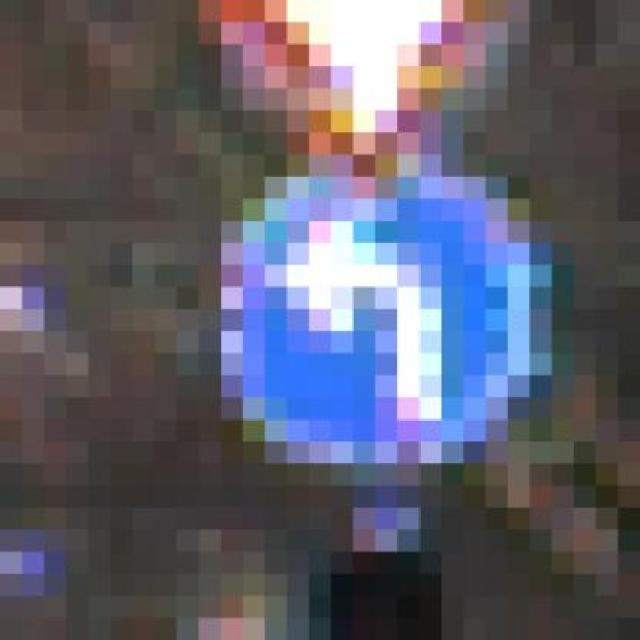Turn left ahead: (177, 177, 574, 508)
